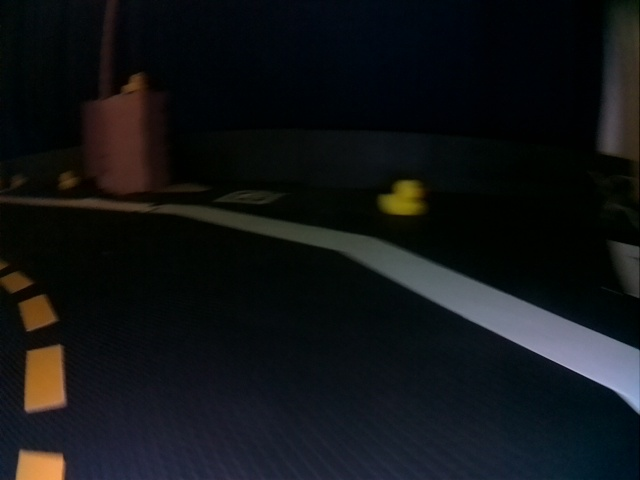Duckie: (379, 179, 426, 217), (122, 73, 146, 92), (59, 172, 75, 189)
QR code: (221, 188, 286, 205)
